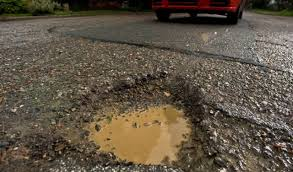pothole: (73, 74, 210, 167)
